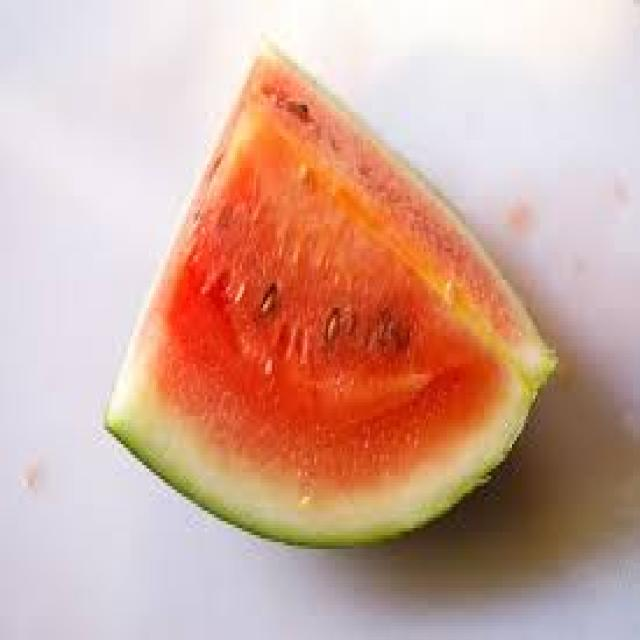watermelon: (100, 32, 559, 549)
